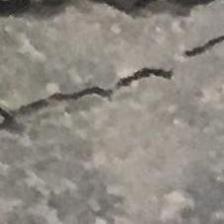Crack: (0, 30, 224, 130)
